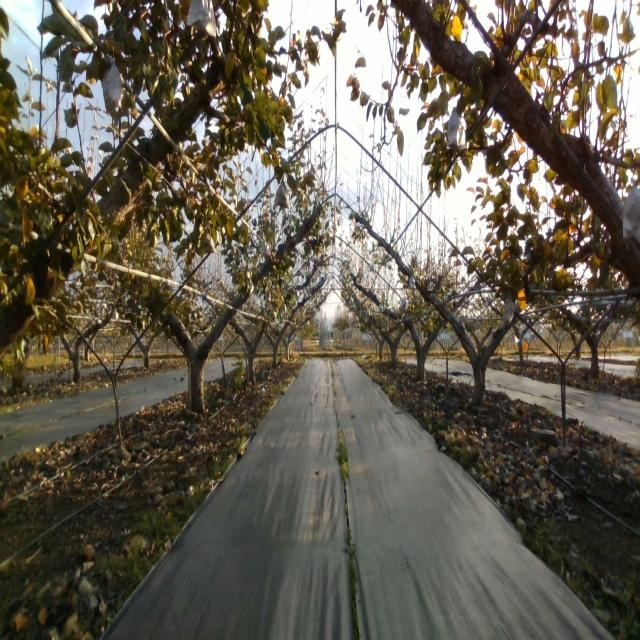pearbags: (101, 57, 123, 114), (185, 0, 216, 39), (622, 180, 640, 238), (446, 106, 467, 150), (274, 179, 290, 210), (200, 231, 216, 253), (504, 298, 515, 324)
